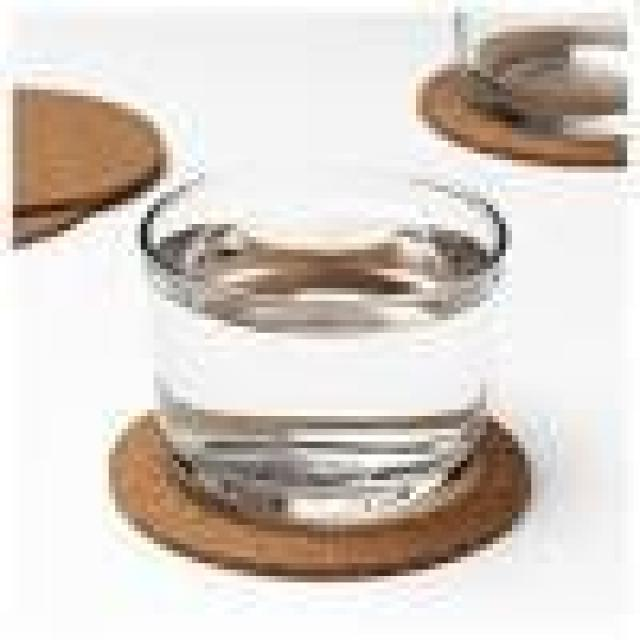non-organic waste: (134, 160, 512, 525)
